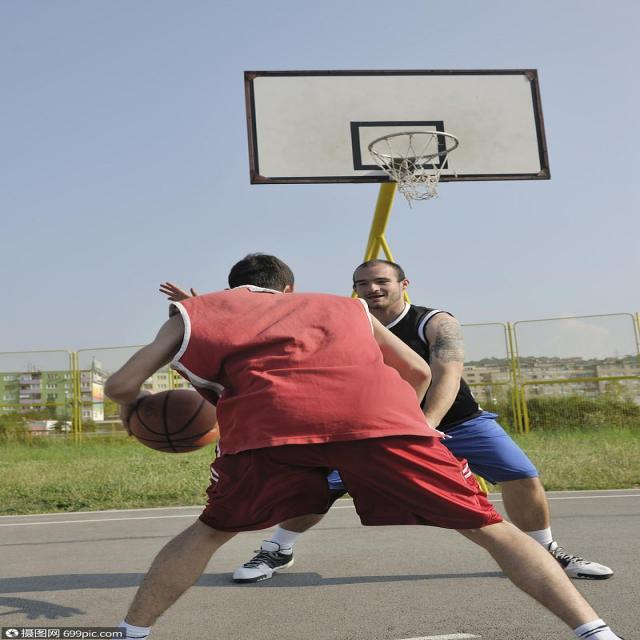rim: (117, 392, 221, 449)
